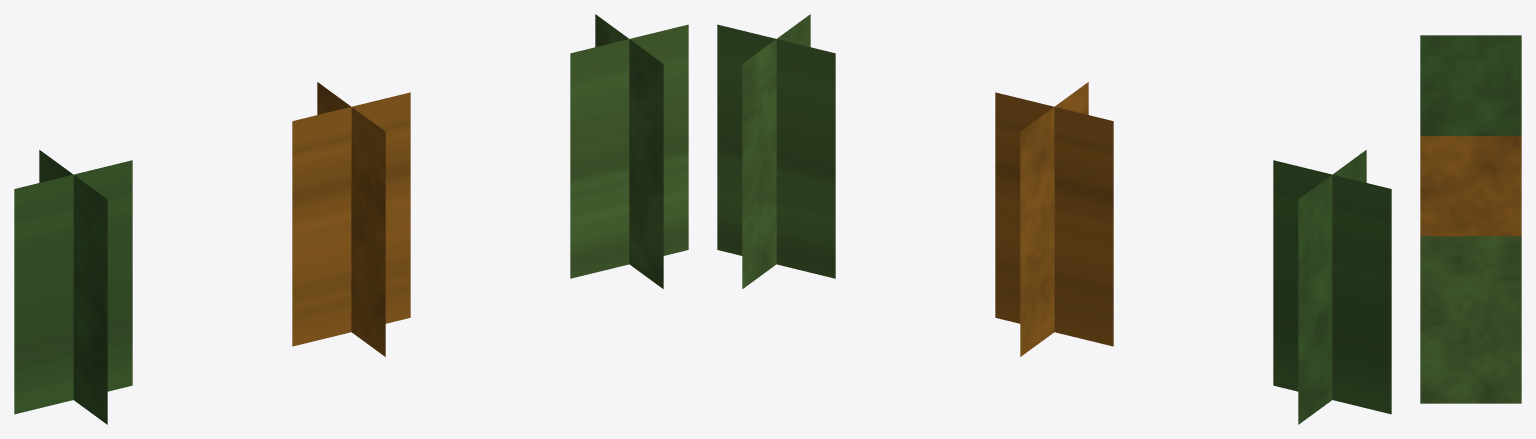
Rendered from street_tree_bb.glb.
The picture shows the model from 3 angles, left to right: view 1: azimuth 30°, elevation 25°; view 2: azimuth 150°, elevation 25°; view 3: azimuth 270°, elevation 25°; orthographic projection. The views are drawn at different scales.
Visible parts, largest first — view 1: street_tree_bb_v2, street_tree_bb_v1, street_tree_bb_v3; view 2: street_tree_bb_v2, street_tree_bb_v1, street_tree_bb_v3; view 3: street_tree_bb_v3, street_tree_bb_v1, street_tree_bb_v2.
Part boxes in pixels (bbox=[...]): street_tree_bb_v2: bbox=[292, 82, 410, 356]; street_tree_bb_v1: bbox=[14, 150, 132, 424]; street_tree_bb_v3: bbox=[570, 14, 688, 288]; street_tree_bb_v2: bbox=[995, 82, 1113, 356]; street_tree_bb_v1: bbox=[1273, 150, 1391, 424]; street_tree_bb_v3: bbox=[717, 14, 835, 288]; street_tree_bb_v3: bbox=[1420, 236, 1521, 403]; street_tree_bb_v1: bbox=[1420, 35, 1521, 135]; street_tree_bb_v2: bbox=[1420, 136, 1521, 236].
Bounding box in the file's own units: 19.4 × 6.2 × 3.4.
1 material, 1 textured.
